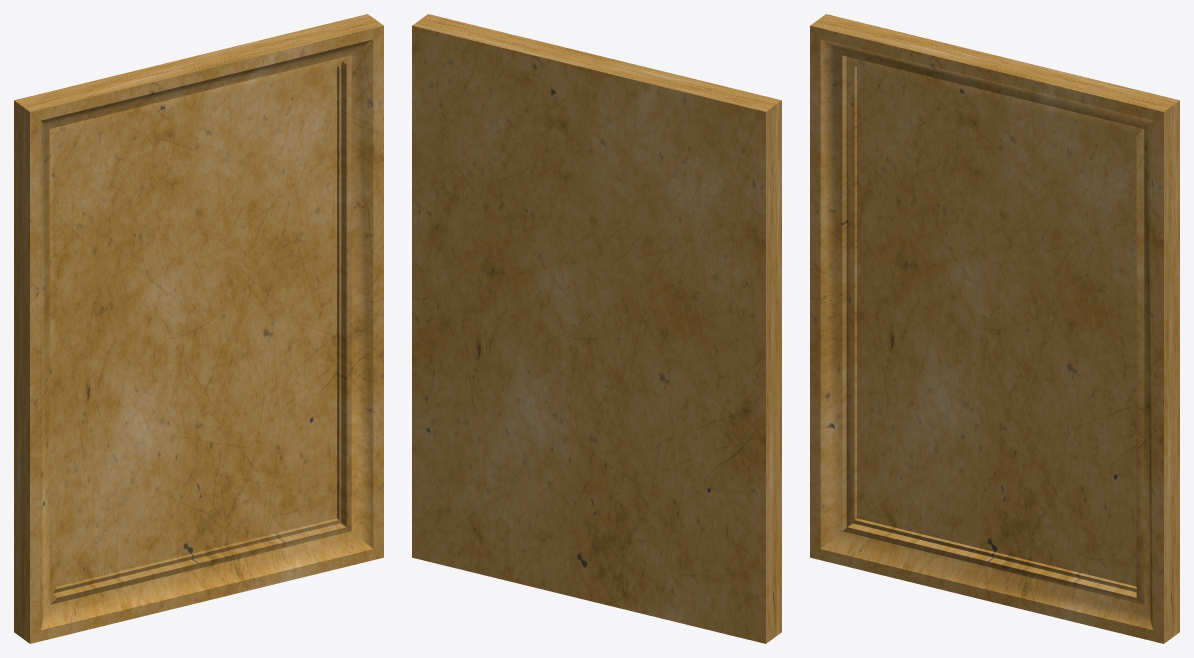
File: Painting_Living_copy.fbx
The picture shows the model from 3 angles, left to right: view 1: azimuth 30°, elevation 25°; view 2: azimuth 150°, elevation 25°; view 3: azimuth 330°, elevation 25°; orthographic projection.
Visible parts, largest first — view 1: Frame; view 2: Frame; view 3: Frame.
Part boxes in pixels (x1,y1,x2,y2): Frame: (14, 14, 383, 643); Frame: (412, 14, 781, 643); Frame: (810, 14, 1179, 643).
Bounding box in the file's own units: 292 × 420 × 22.88.
Materials: 2 (2 with a texture image).
